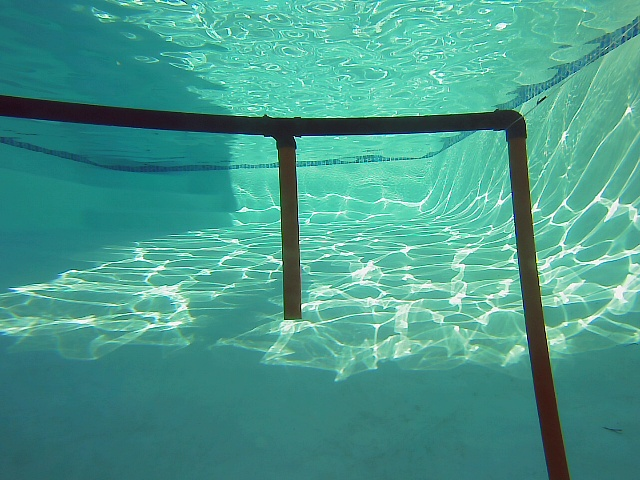Gate: (503, 132, 578, 480), (273, 140, 306, 324)
